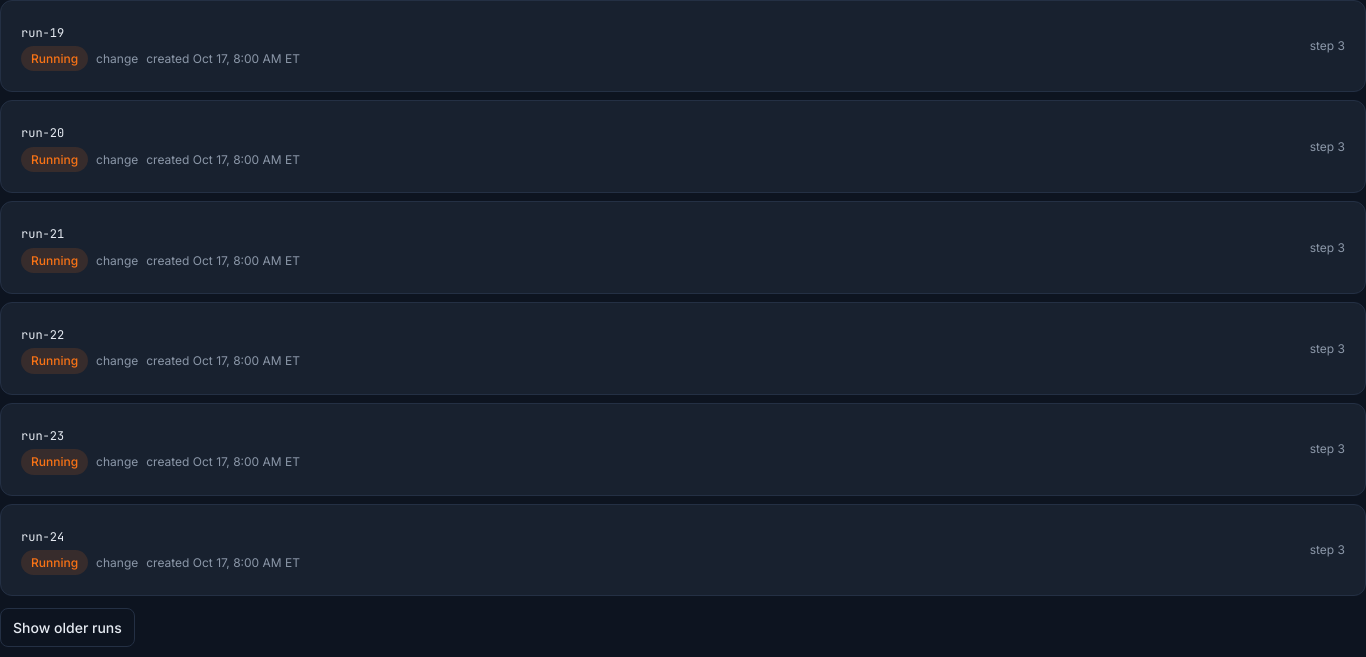
Test case: [RunIndexPage] › should page older runs onto the list rather than replacing it
(page scrolled)
Click the button with test id "run-list-more": click(67, 628) [0,608,135,647]
(page scrolled)
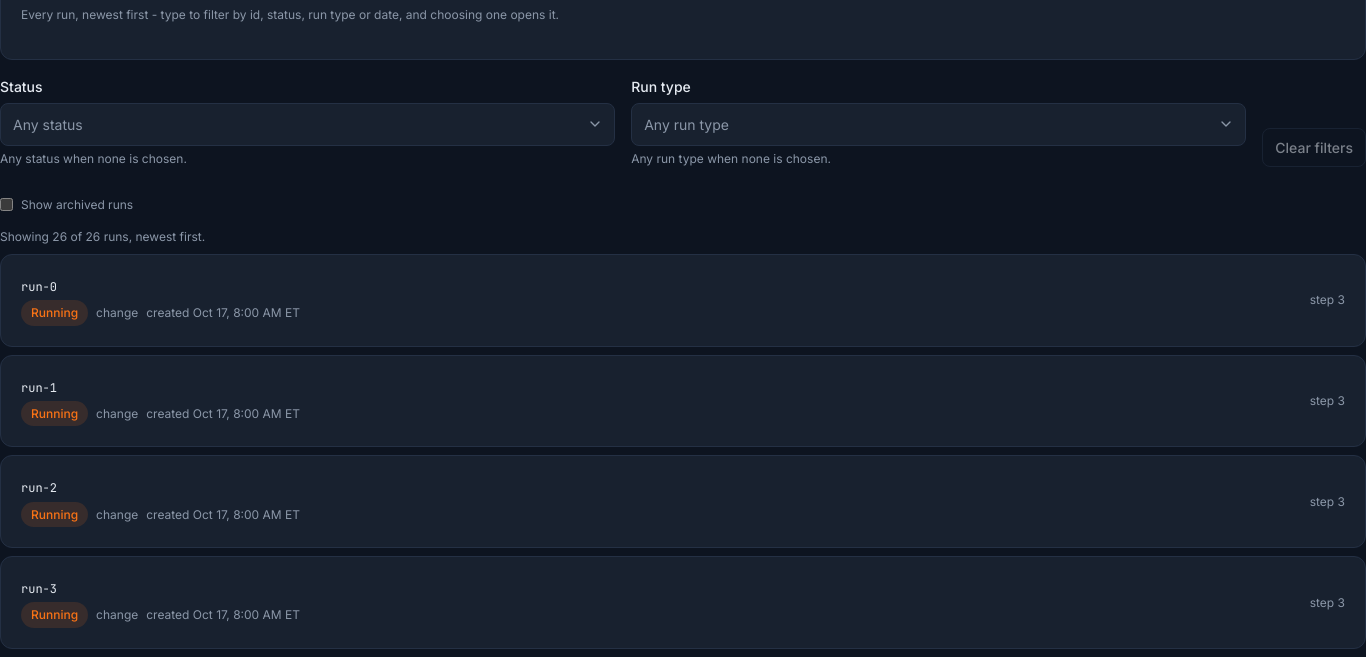
expect the button with test id "run-list-row-run-0" is shown: met, box [0,254,1365,347]
expect the button with test id "run-list-more" is gone: met
